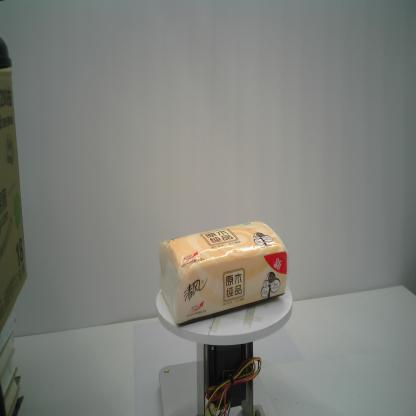Tissue: (157, 219, 288, 326)
